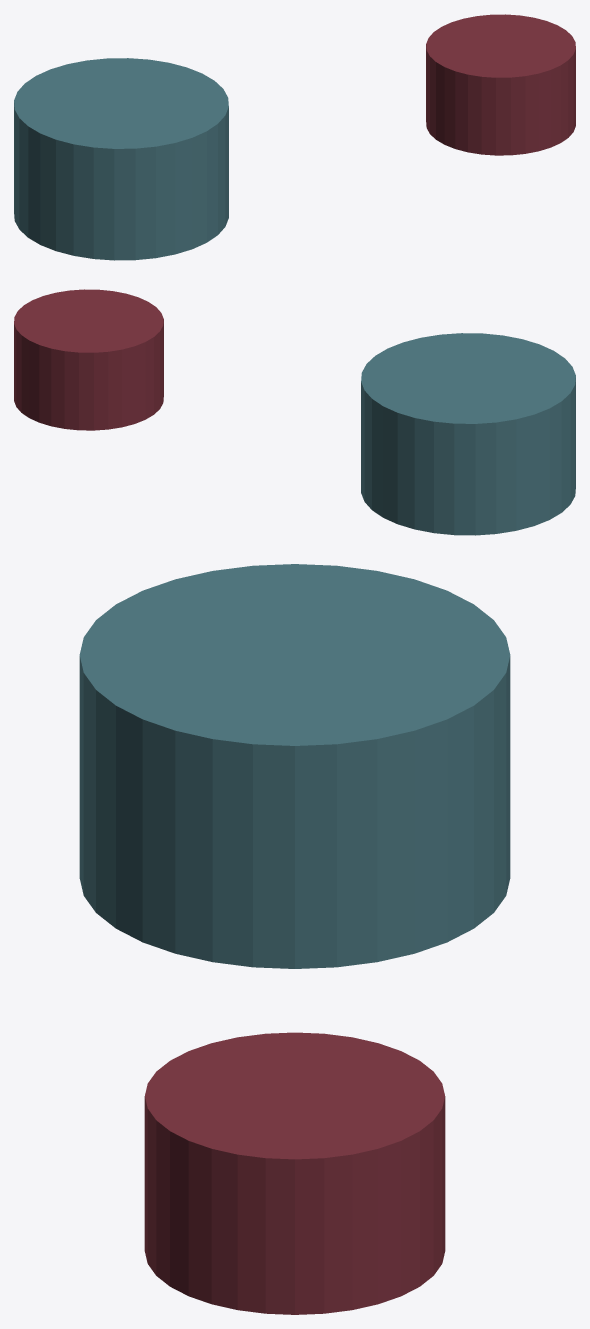
File: Tapon.fbx
The picture shows the model from 3 angles, top to bottom: view 1: azimuth 30°, elevation 25°; view 2: azimuth 150°, elevation 25°; view 3: azimuth 270°, elevation 25°; orthographic projection. The views are drawn at different scales.
Visible parts, largest first — view 1: Cylinder, Cylinder.001; view 2: Cylinder, Cylinder.001; view 3: Cylinder, Cylinder.001.
Boxes of the visible parts, x1,y1,x2,y2 form: Cylinder: (14,58,228,260); Cylinder.001: (426,14,575,155); Cylinder: (361,333,575,535); Cylinder.001: (14,289,163,430); Cylinder: (79,564,510,968); Cylinder.001: (144,1032,445,1314).
Bounding box in the file's own units: 8.08 × 1.62 × 2.8.
